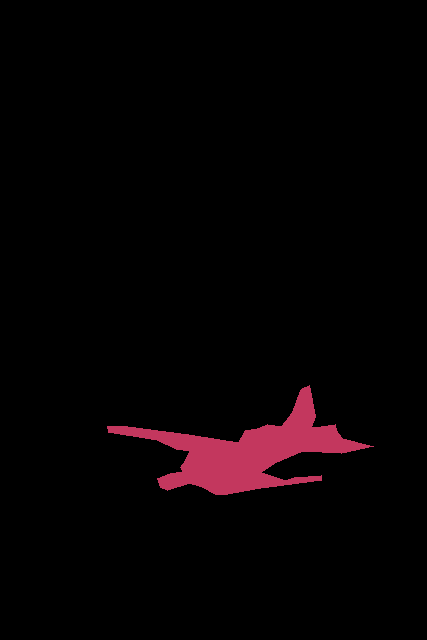Airplane: (107, 385, 374, 495)
